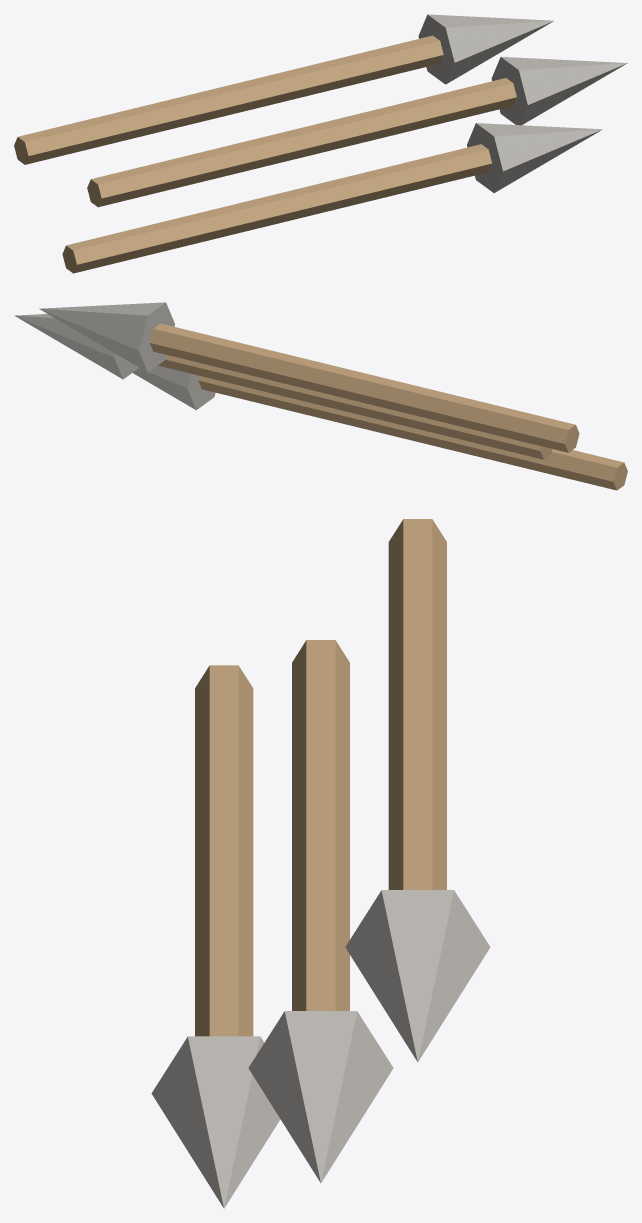
The model's file is item_015_spear_m.glb.
3 renders of one model, top to bottom at view 1: azimuth 30°, elevation 25°; view 2: azimuth 150°, elevation 25°; view 3: azimuth 270°, elevation 25°, orthographic. The views are drawn at different scales.
Visible parts, largest first — view 1: item_015_spear_m; view 2: item_015_spear_m; view 3: item_015_spear_m.
Part boxes in pixels (x1,y1,x2,y2): item_015_spear_m: [14, 14, 627, 273]; item_015_spear_m: [14, 302, 627, 490]; item_015_spear_m: [151, 519, 490, 1208].
Size of the model in its own units: 0.8332 by 0.1779 by 0.21.
